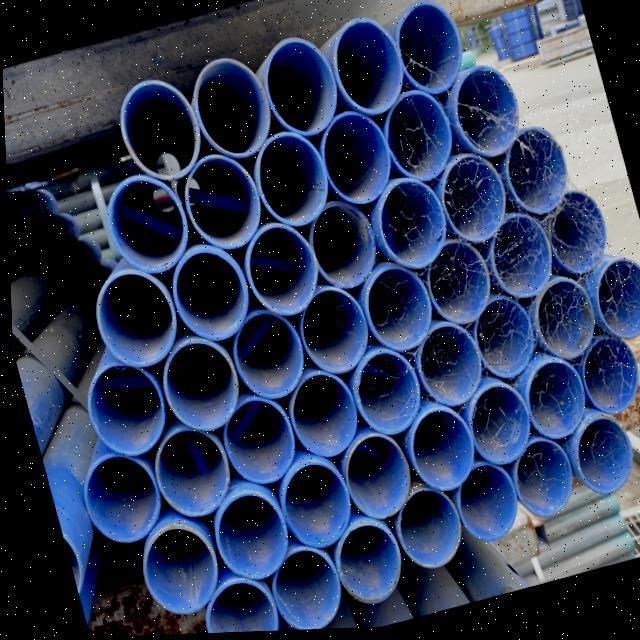pipe: (117, 80, 203, 181), (91, 268, 178, 365), (189, 56, 272, 157), (256, 36, 341, 134), (103, 173, 184, 275), (83, 362, 165, 460), (326, 19, 405, 120), (216, 402, 306, 488), (393, 4, 474, 98), (313, 114, 391, 209), (252, 133, 328, 230), (168, 247, 248, 339), (159, 341, 238, 434), (79, 455, 158, 545), (182, 157, 258, 250), (150, 429, 228, 518), (227, 312, 306, 399), (412, 240, 486, 332), (240, 222, 313, 315), (135, 527, 212, 615), (212, 491, 287, 581), (371, 183, 445, 274), (452, 68, 522, 163), (301, 203, 373, 293), (361, 269, 438, 353), (296, 289, 367, 377), (436, 156, 503, 248), (380, 95, 450, 183), (287, 373, 356, 462), (348, 351, 419, 437), (275, 464, 346, 550), (502, 129, 566, 220), (340, 435, 406, 522), (263, 553, 335, 632), (413, 325, 481, 408), (528, 279, 595, 363), (405, 408, 470, 494), (486, 216, 549, 303), (540, 193, 603, 278), (329, 524, 395, 605), (520, 358, 583, 442), (462, 382, 524, 467), (468, 301, 532, 383), (392, 492, 456, 572), (508, 441, 568, 523), (452, 463, 512, 545), (575, 338, 633, 422), (573, 421, 629, 500), (589, 262, 640, 347), (201, 578, 274, 635)
